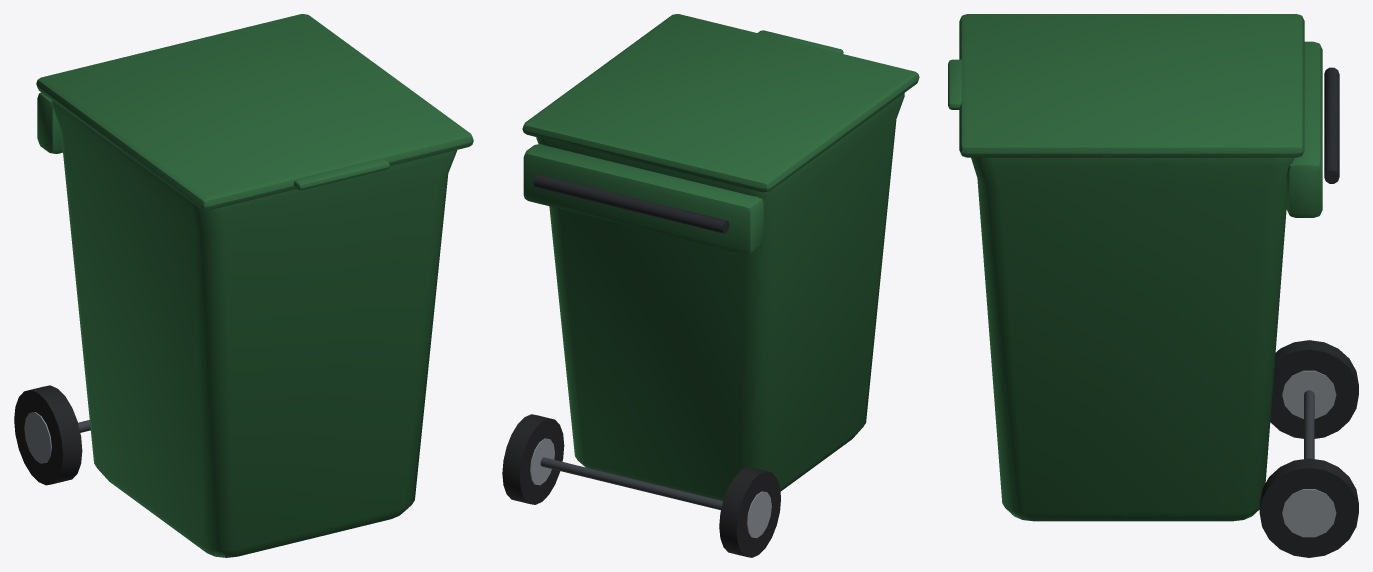
Rendered from wheelie-bin.glb.
The picture shows the model from 3 angles, left to right: view 1: azimuth 30°, elevation 25°; view 2: azimuth 150°, elevation 25°; view 3: azimuth 270°, elevation 25°; orthographic projection. The views are drawn at different scales.
Visible parts, largest first — view 1: Wheelie_Bin, Lid, Wheel_R; view 2: Wheelie_Bin, Lid, Wheel_R, Wheel_L; view 3: Wheelie_Bin, Lid, Wheel_L, Wheel_R.
Part boxes in pixels (x1,y1,x2,y2): Wheelie_Bin: [37, 92, 457, 557]; Lid: [36, 14, 473, 210]; Wheel_R: [14, 385, 82, 485]; Wheelie_Bin: [523, 93, 904, 510]; Lid: [522, 14, 919, 192]; Wheel_R: [719, 467, 780, 557]; Wheel_L: [502, 414, 564, 504]; Wheelie_Bin: [971, 41, 1339, 521]; Lid: [948, 14, 1304, 157]; Wheel_L: [1259, 458, 1358, 557]; Wheel_R: [1270, 340, 1358, 438].
Bounding box in the file's own units: 0.71 × 1.01 × 0.91.
